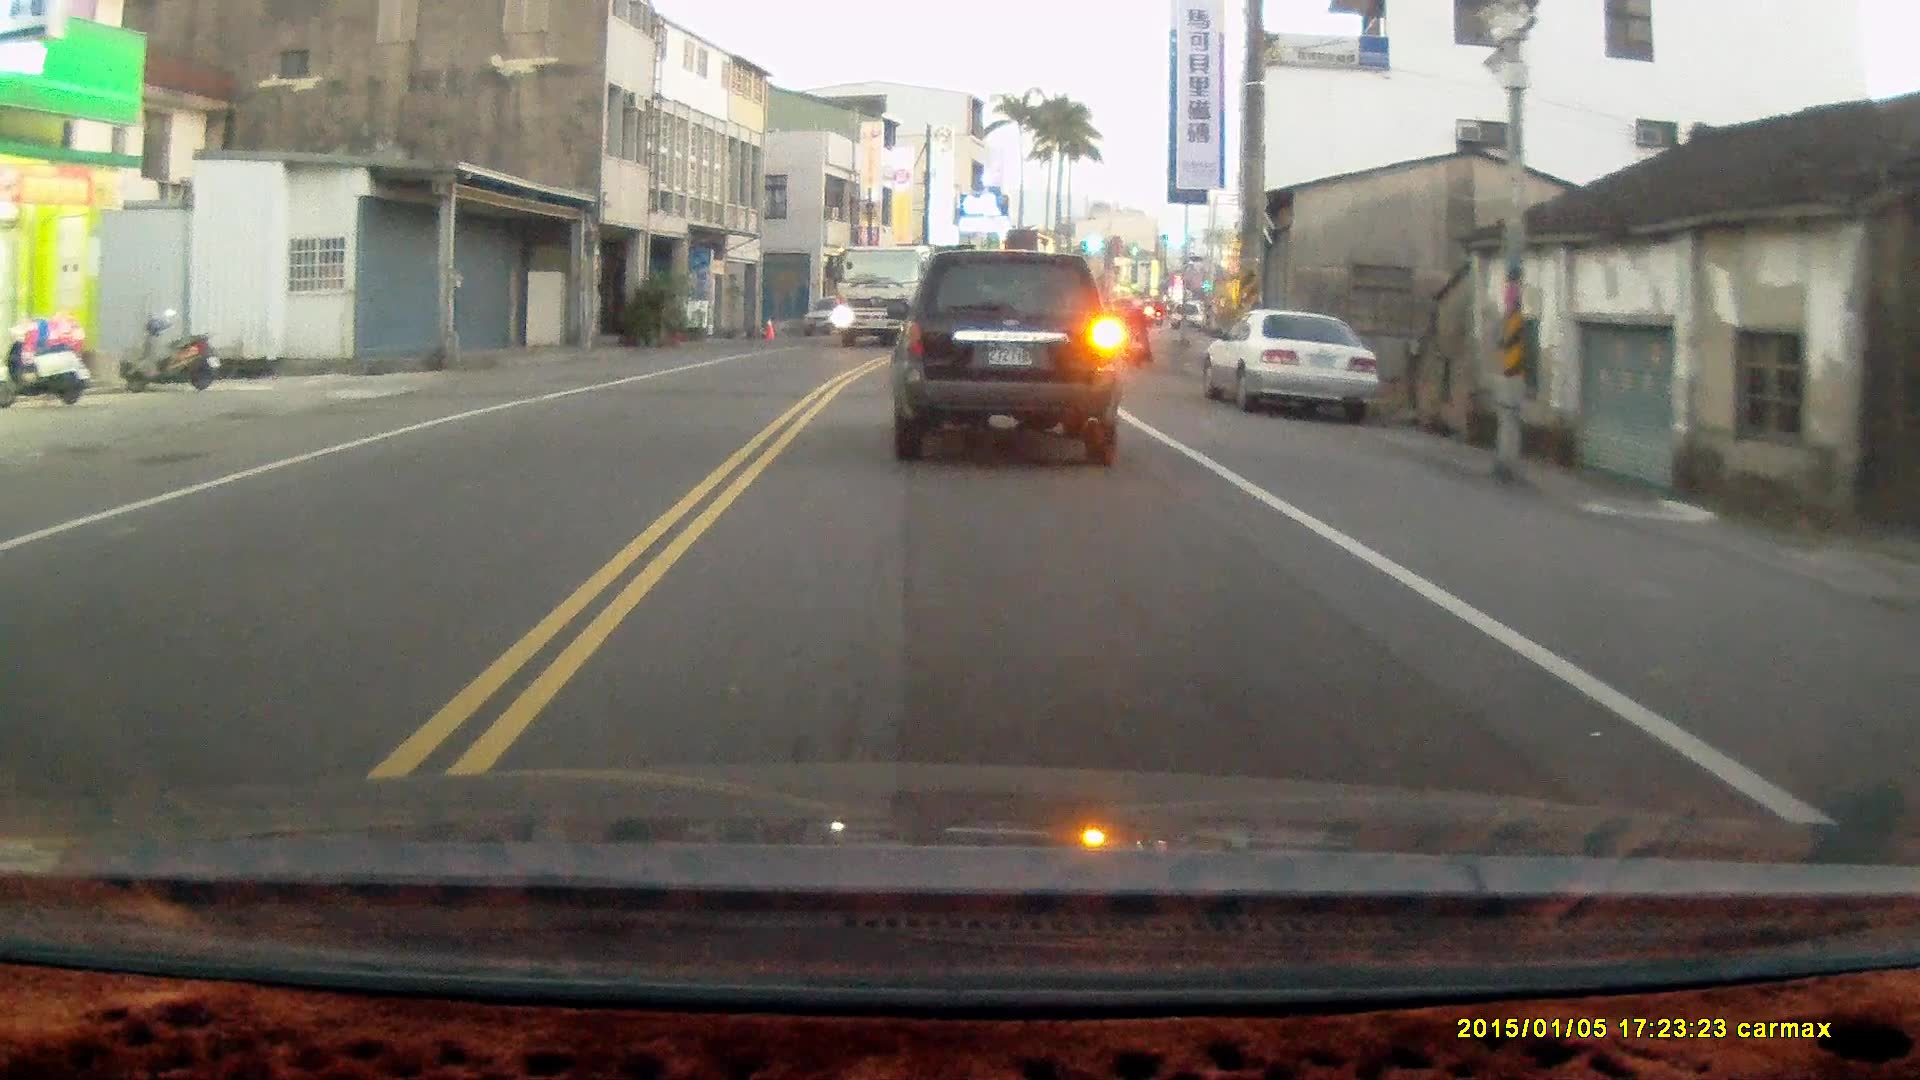rider: (1122, 293, 1153, 366)
vehicle: (890, 249, 1131, 460), (1204, 312, 1384, 429), (823, 241, 934, 346)
